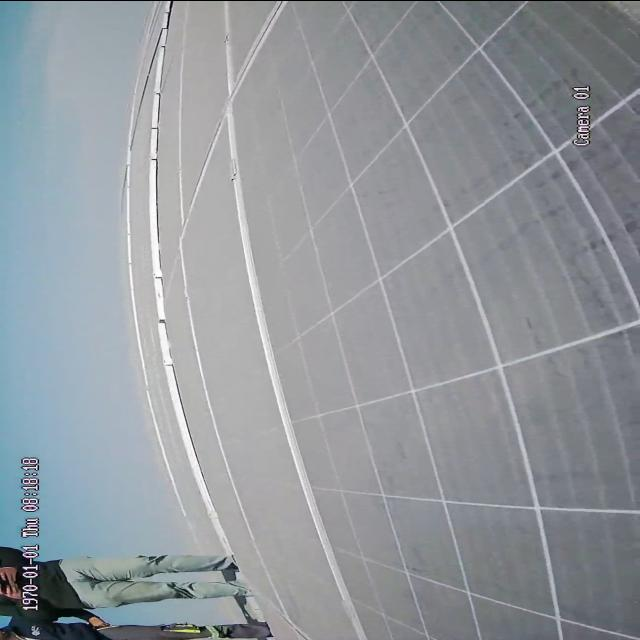interior panel: (222, 3, 369, 637)
